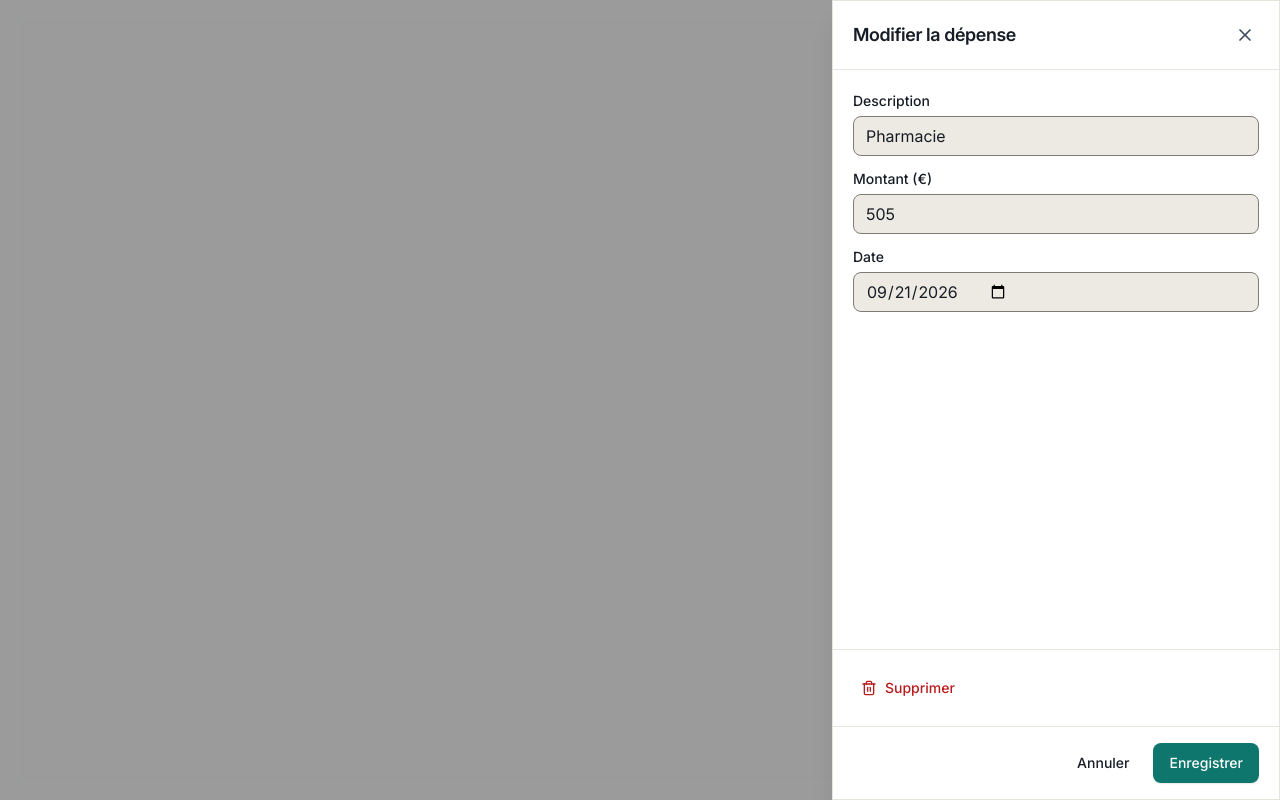
Test case: ExpenseEditDrawer — a refused date › clears the message as soon as the date is touched again
The width and height of the screenshot is (1280, 800).
Type "2099-01-01" into the date field with test id "expense-edit-occurred-on" at (1056, 292), box [853,272,1259,312]
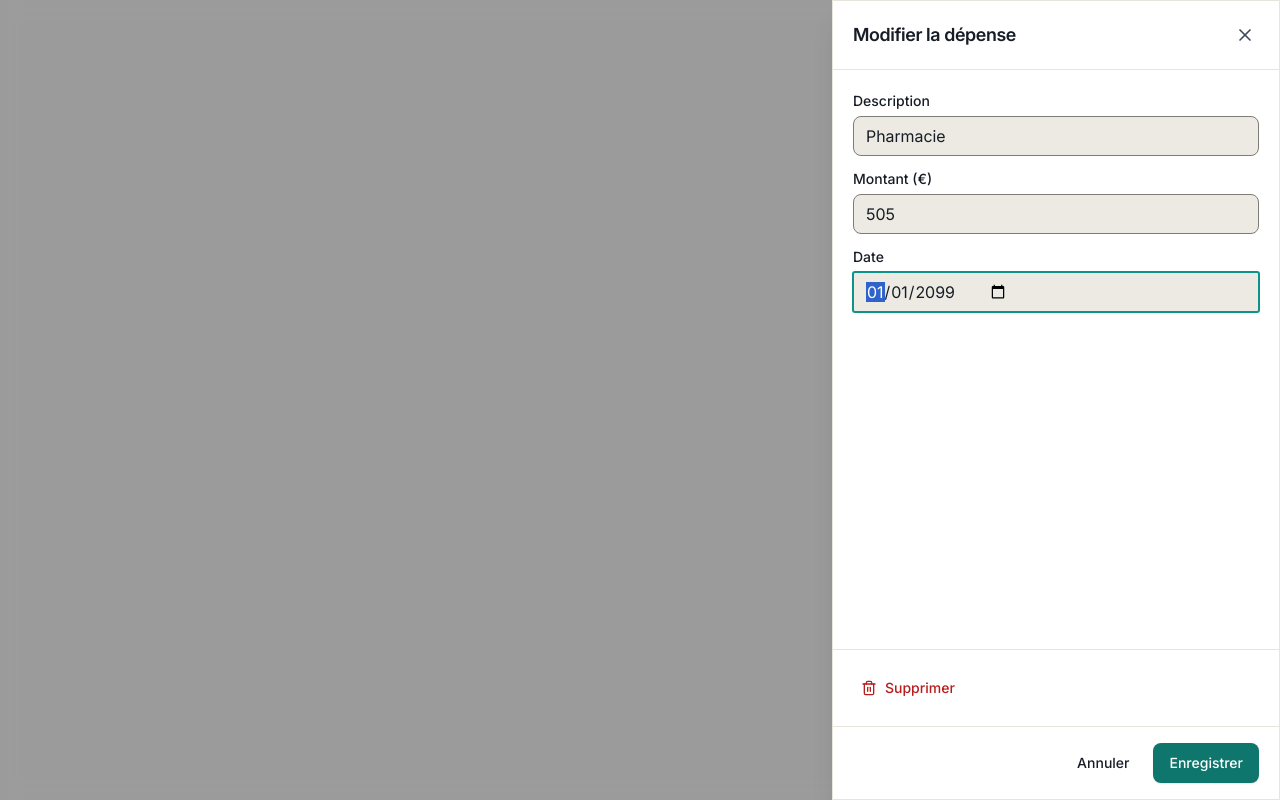
Click the button with test id "expense-edit-save" at (1206, 763), box [1154,743,1259,783]
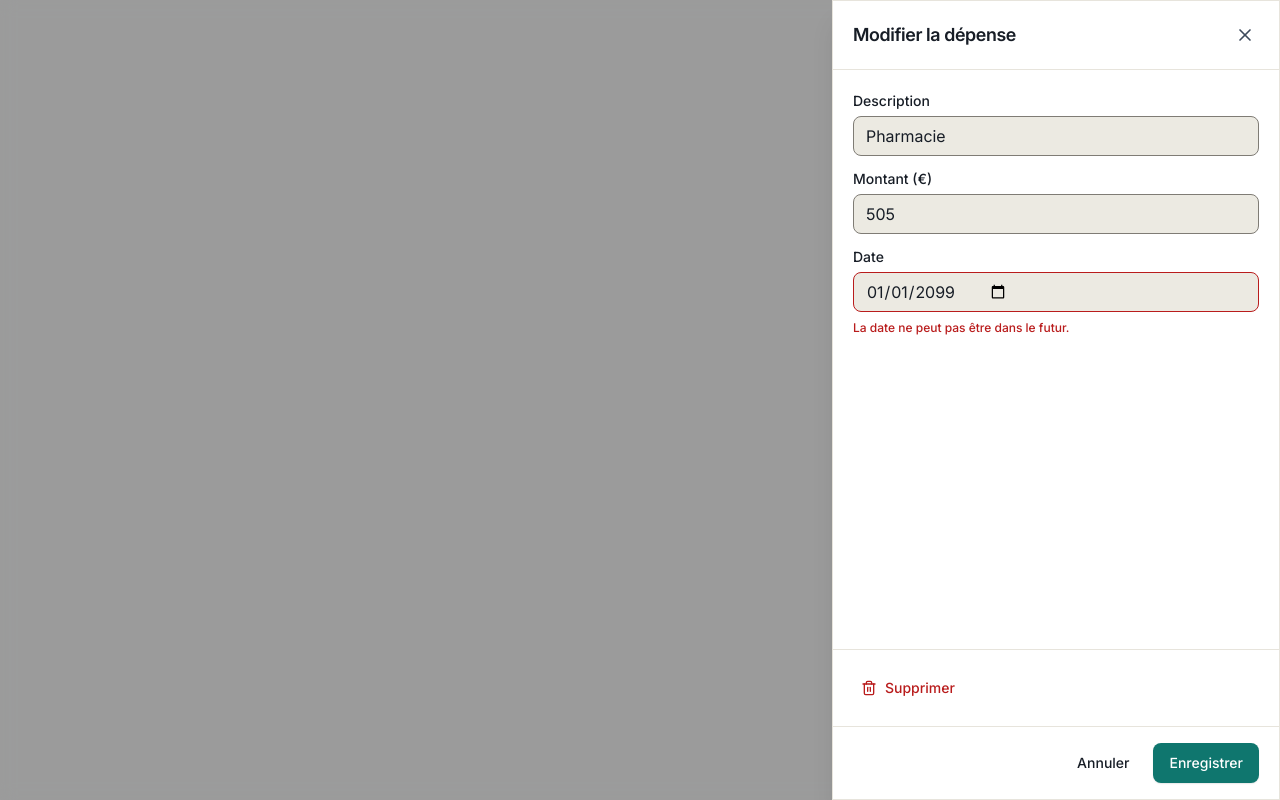
Now the message "La date ne peut pas être dans le futur." is shown, box [853,320,1070,335]
Clear the date field with test id "expense-edit-occurred-on" at (1056, 292), box [853,272,1259,312]
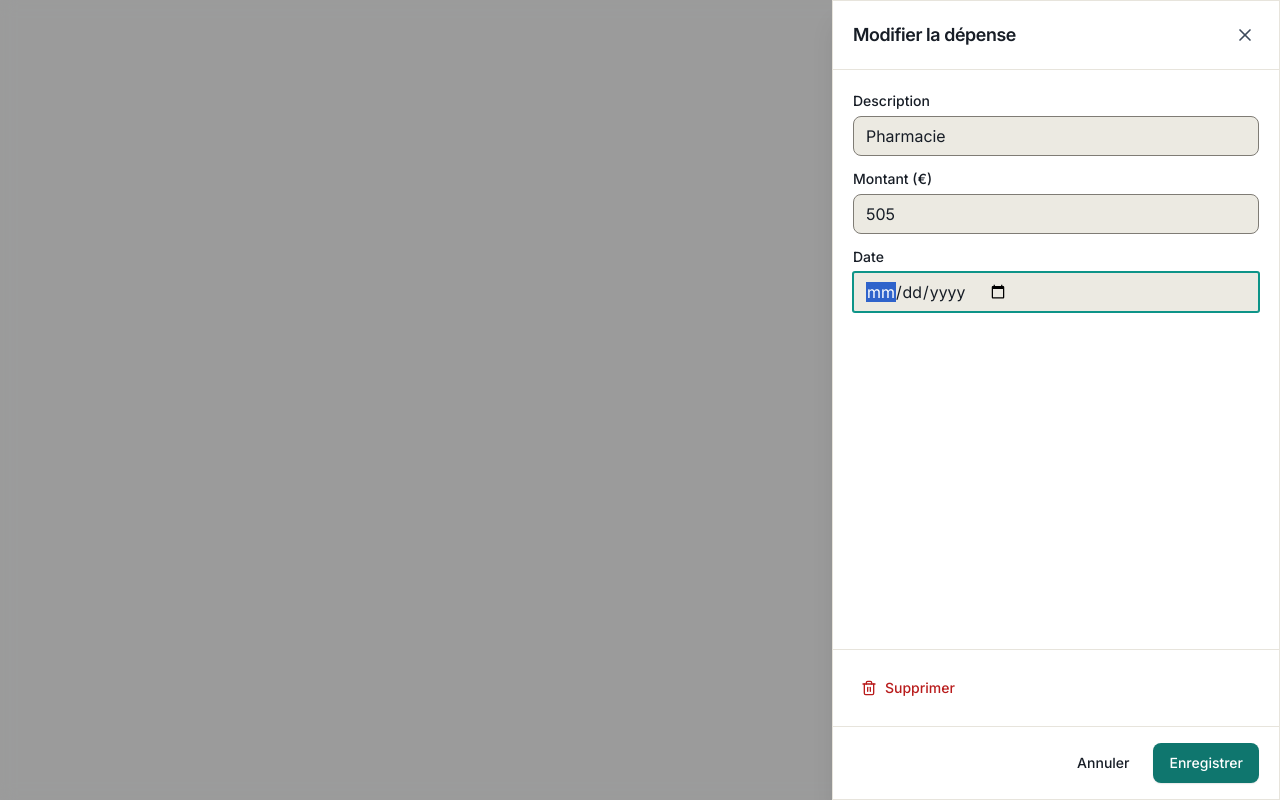
Now the message with test id "expense-edit-date-error" is gone
